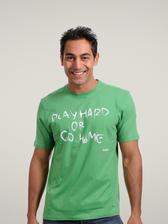clothoes: (30, 84, 142, 218)
